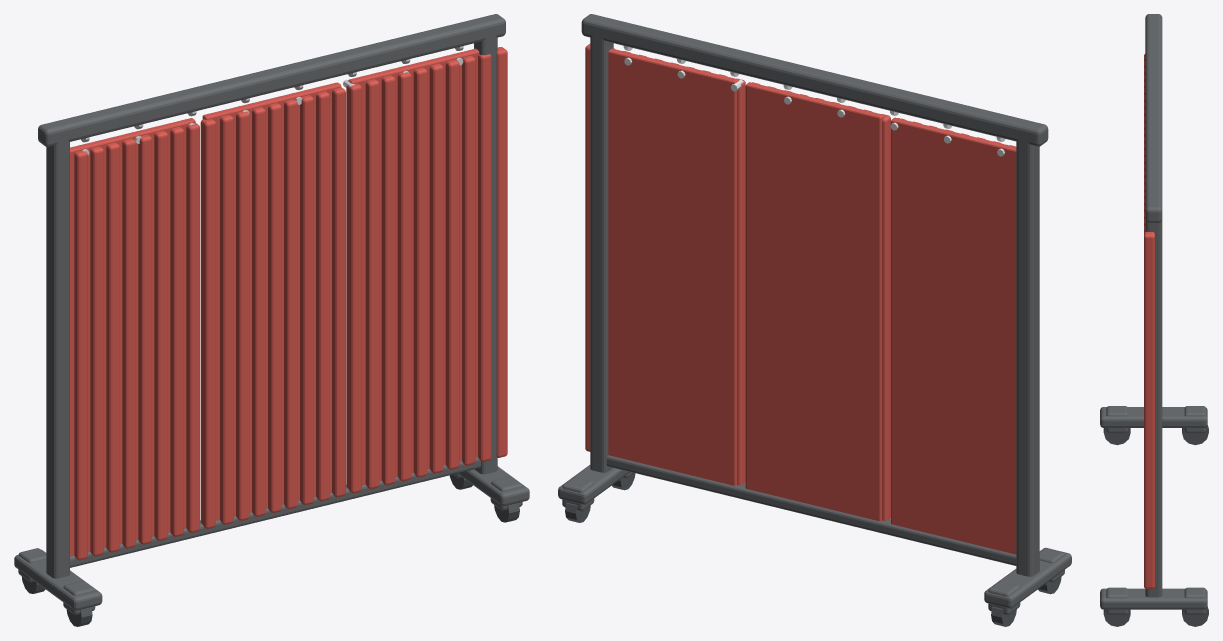
File: welding-screen-on-castors.glb
3 renders of one model, left to right at view 1: azimuth 30°, elevation 25°; view 2: azimuth 150°, elevation 25°; view 3: azimuth 270°, elevation 25°, orthographic. The views are drawn at different scales.
Visible parts, largest first — view 1: machine-shop-and-factory-hall-welding-screen; view 2: machine-shop-and-factory-hall-welding-screen; view 3: machine-shop-and-factory-hall-welding-screen.
Boxes of the visible parts, left/top/right/bottom form: machine-shop-and-factory-hall-welding-screen: left=14, top=14, right=529, bottom=626; machine-shop-and-factory-hall-welding-screen: left=558, top=14, right=1071, bottom=626; machine-shop-and-factory-hall-welding-screen: left=1100, top=14, right=1208, bottom=626.
Size of the model in its own units: 1.9 by 1.91 by 0.4449.
